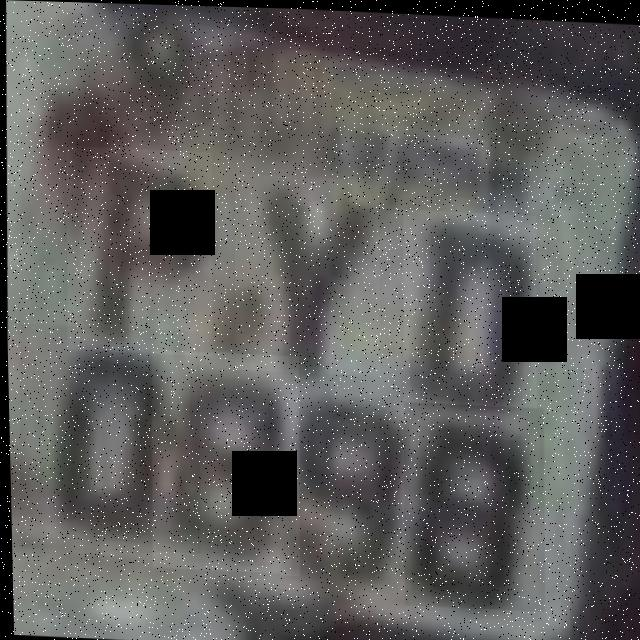0: (14, 323, 202, 554)
8: (146, 347, 300, 574), (398, 398, 545, 608)
9: (274, 375, 417, 587)
O: (398, 207, 538, 405)
P: (62, 144, 214, 355)
Y: (230, 172, 381, 373)
